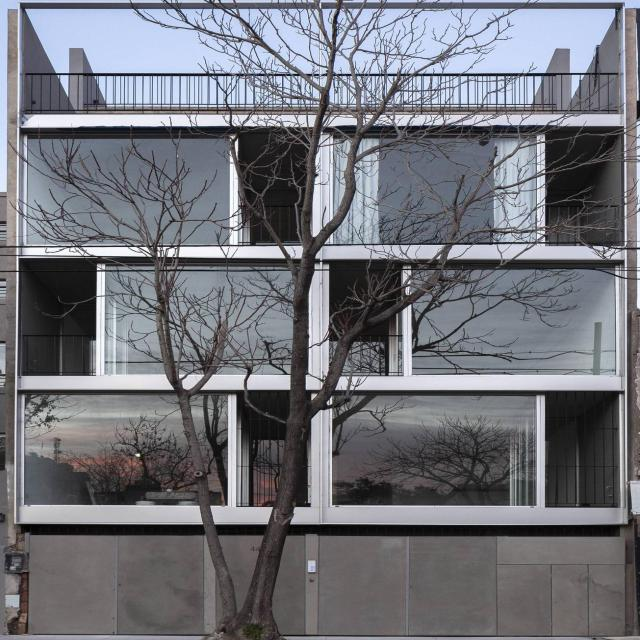railing: (15, 72, 614, 109)
window: (17, 133, 226, 247), (324, 395, 532, 506), (405, 264, 611, 375), (18, 393, 223, 504), (327, 140, 530, 244), (99, 264, 288, 375)
